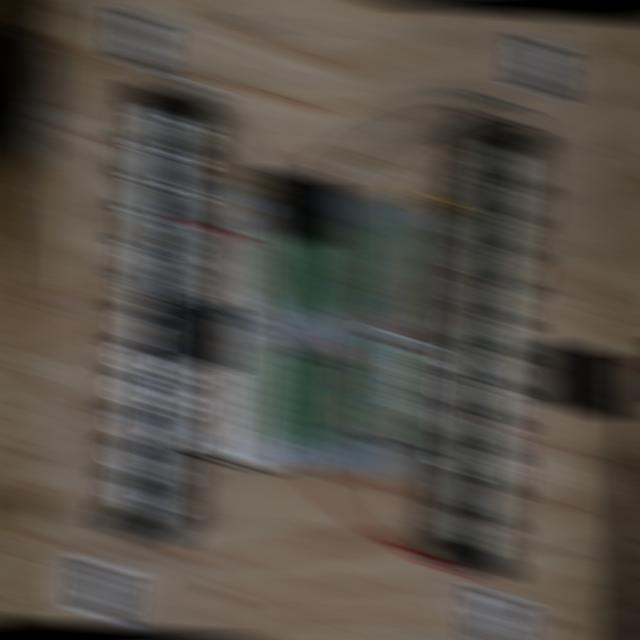Flathead_Block: (435, 119, 544, 577)
Phillips_Block: (100, 86, 205, 544)
Terminal_1: (361, 338, 408, 438), (371, 218, 414, 318)
Terminal_2: (259, 216, 301, 311), (315, 218, 357, 313), (287, 217, 329, 311), (305, 355, 347, 448), (279, 354, 321, 447)
